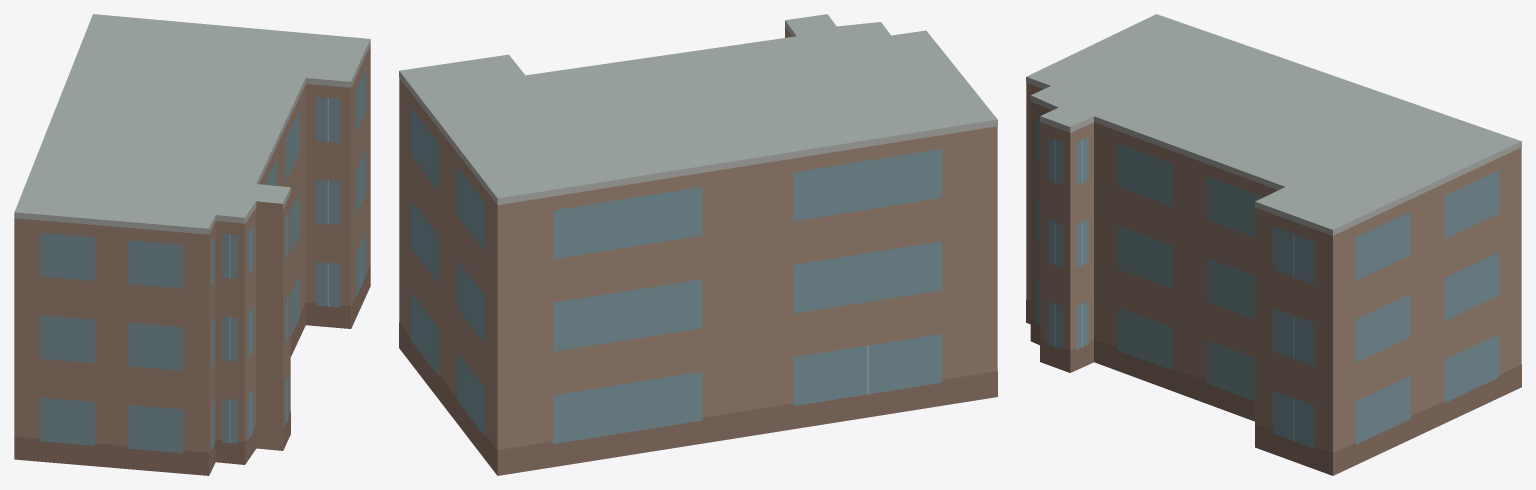
Rendered from survey-upis-32723597.glb.
The picture shows the model from 3 angles, left to right: view 1: azimuth 30°, elevation 25°; view 2: azimuth 150°, elevation 25°; view 3: azimuth 270°, elevation 25°; orthographic projection. The views are drawn at different scales.
Visible parts, largest first — view 1: survey-upis-32723597.tmp; view 2: survey-upis-32723597.tmp; view 3: survey-upis-32723597.tmp.
Boxes of the visible parts, bbox=[...] form: survey-upis-32723597.tmp: bbox=[14, 14, 370, 475]; survey-upis-32723597.tmp: bbox=[399, 14, 997, 475]; survey-upis-32723597.tmp: bbox=[1026, 14, 1521, 475].
Bounding box in the file's own units: 19.22 × 10.2 × 18.64.
